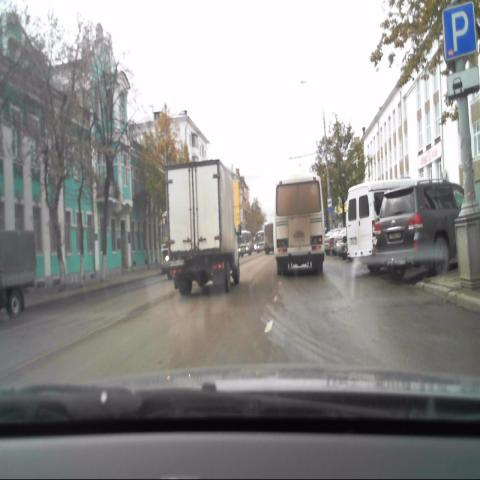8_6_2: (446, 67, 480, 95)
